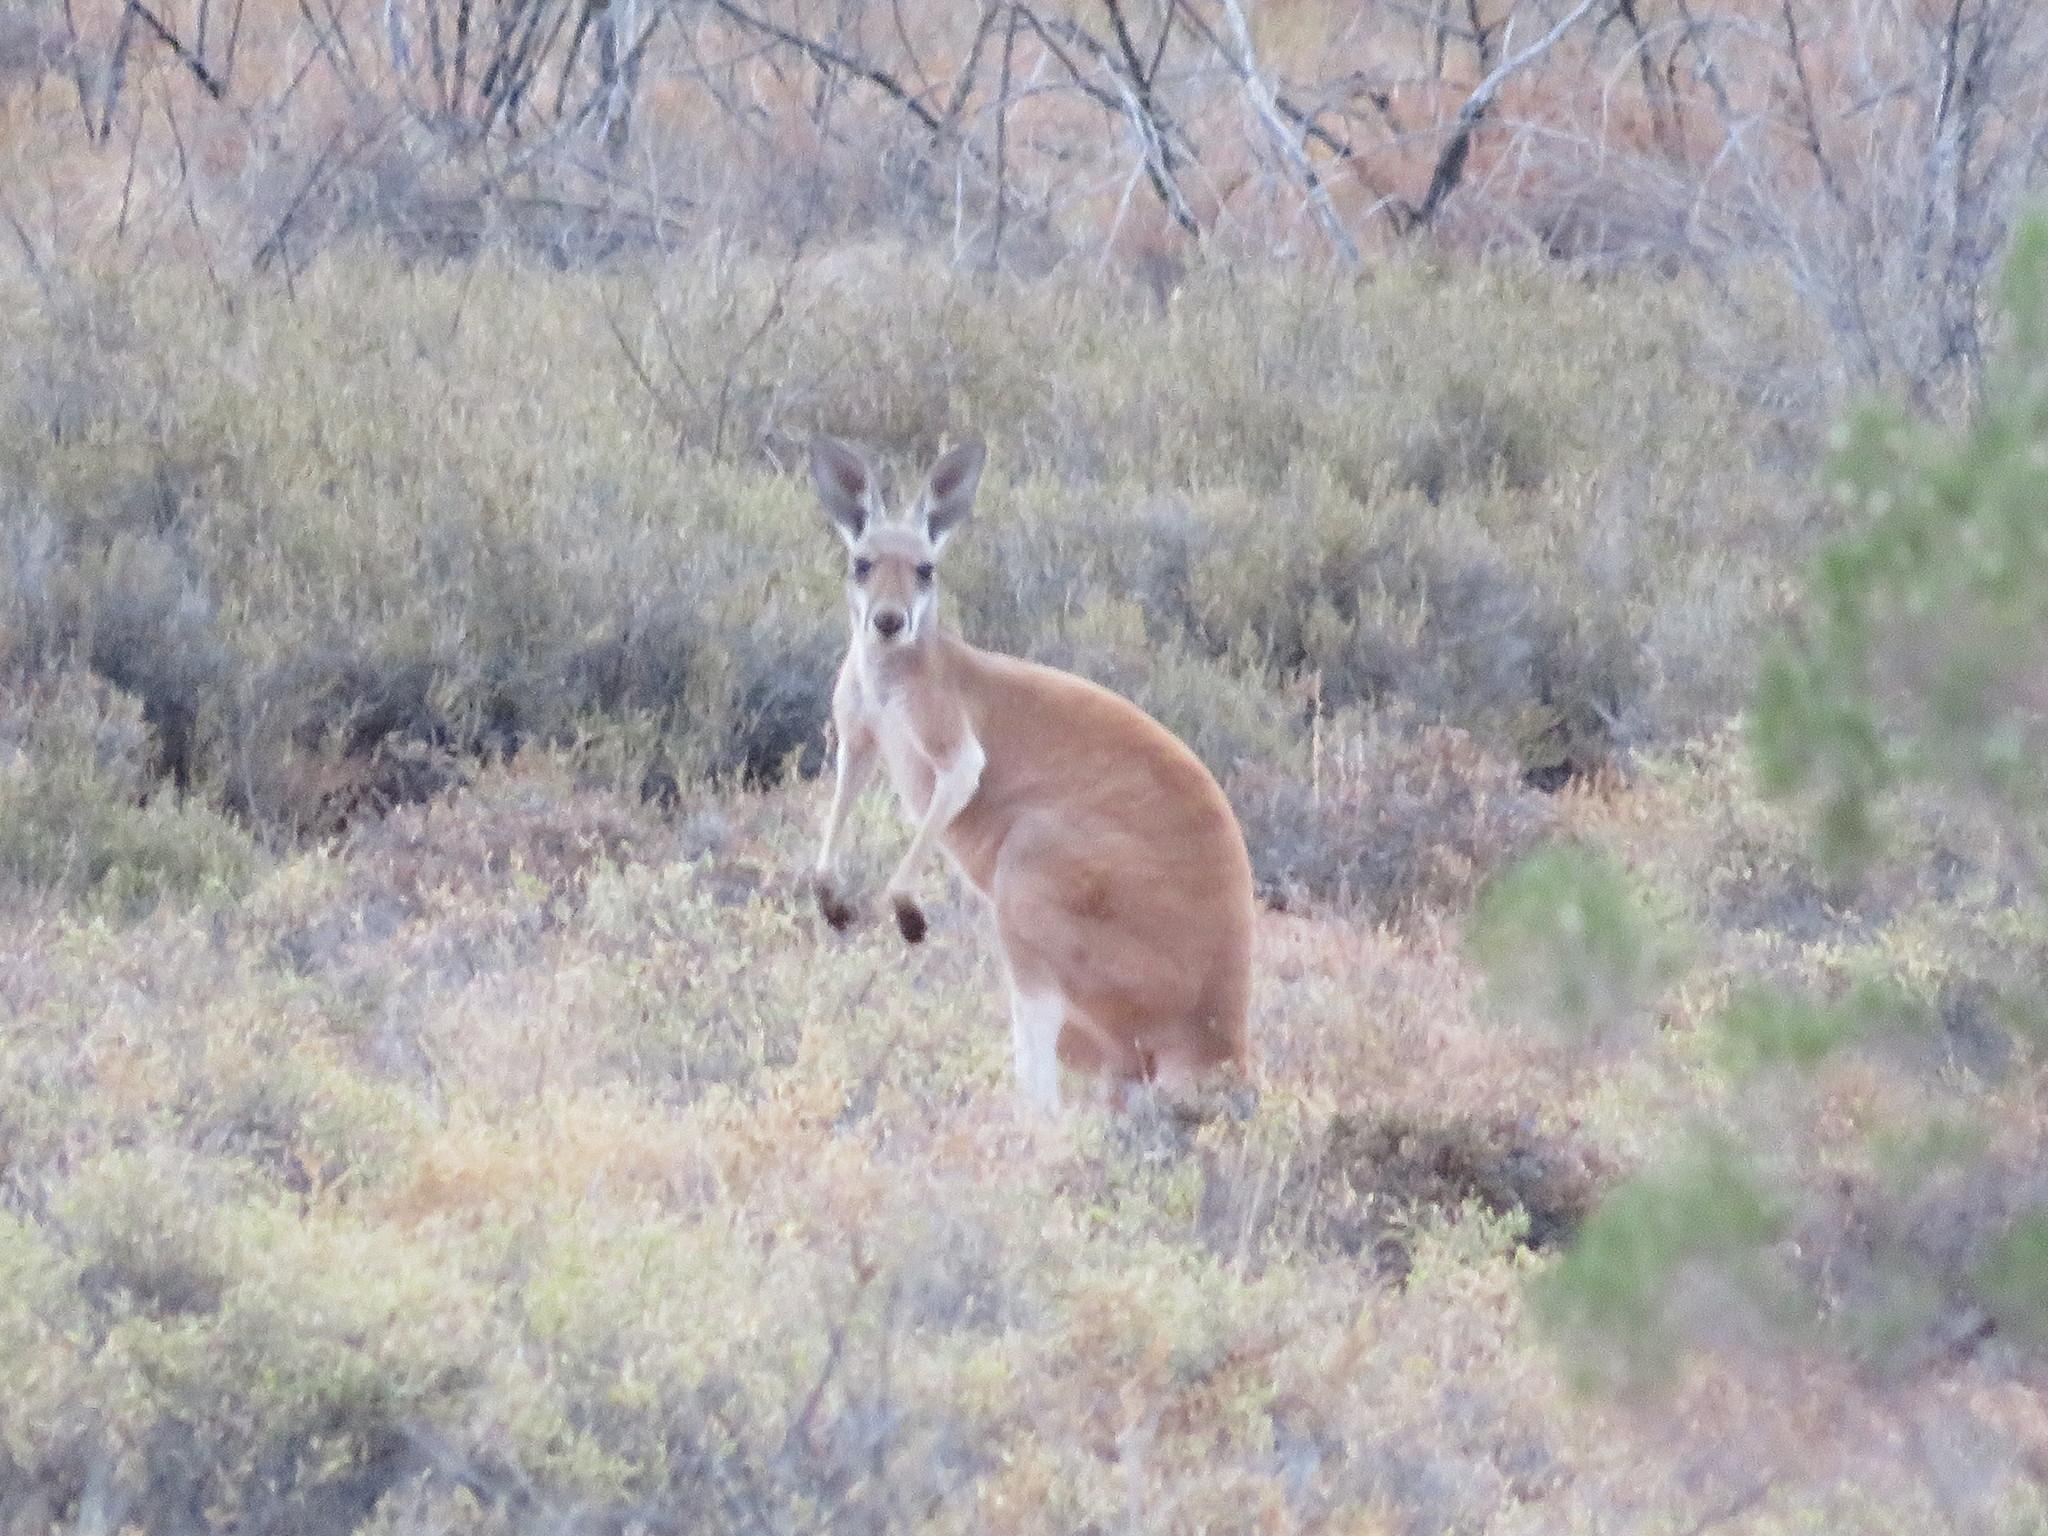Red kangaroo: (797, 423, 1266, 1141)
